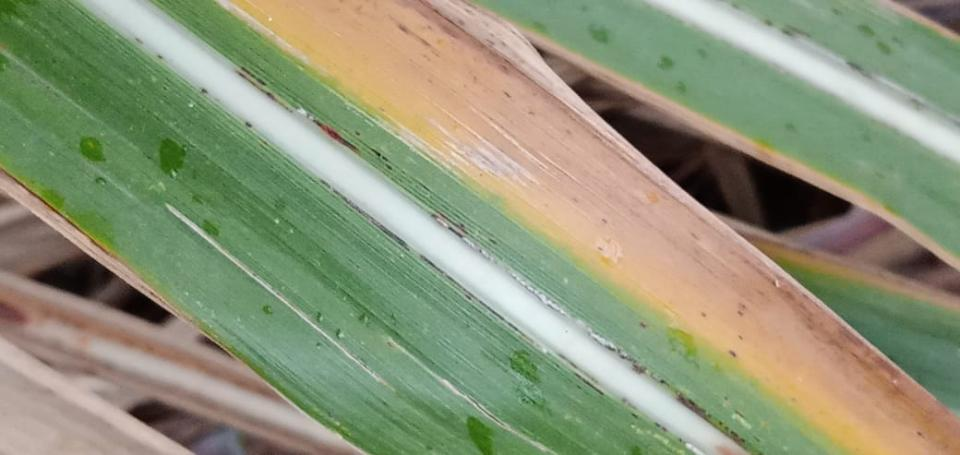Rust: (429, 212, 569, 319), (417, 252, 527, 338), (317, 177, 414, 254), (575, 319, 671, 387), (674, 388, 749, 453), (296, 105, 360, 155), (235, 69, 295, 115), (556, 351, 600, 386), (433, 208, 470, 236), (572, 372, 606, 398), (239, 65, 268, 87), (499, 88, 513, 101), (637, 319, 649, 331), (369, 147, 382, 157), (134, 35, 146, 45), (728, 348, 738, 359), (915, 429, 926, 439), (488, 237, 498, 247), (631, 411, 640, 421), (199, 87, 210, 95), (384, 162, 393, 171), (735, 309, 744, 318), (699, 310, 708, 319), (156, 51, 164, 61), (463, 293, 472, 301), (653, 421, 662, 429), (600, 217, 609, 225), (244, 121, 254, 128), (737, 334, 745, 342), (354, 131, 363, 138), (660, 426, 668, 433), (381, 156, 390, 162), (717, 419, 724, 426), (597, 246, 604, 253), (459, 222, 466, 228), (575, 384, 582, 390), (723, 426, 730, 431), (679, 438, 683, 443)
Yellow: (217, 0, 959, 454), (517, 28, 959, 272), (0, 166, 224, 351), (709, 210, 959, 314)
